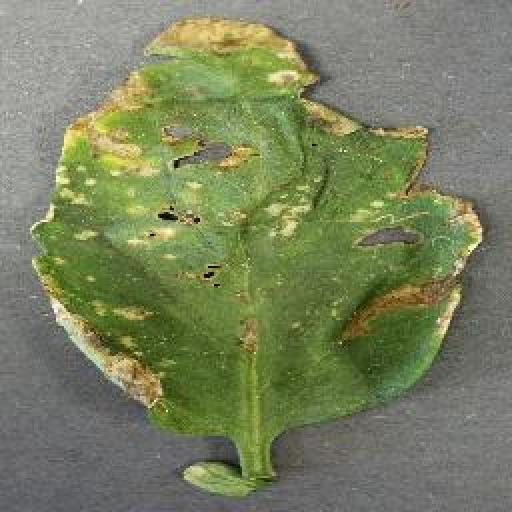Bacterial Spot: (26, 7, 490, 448)
